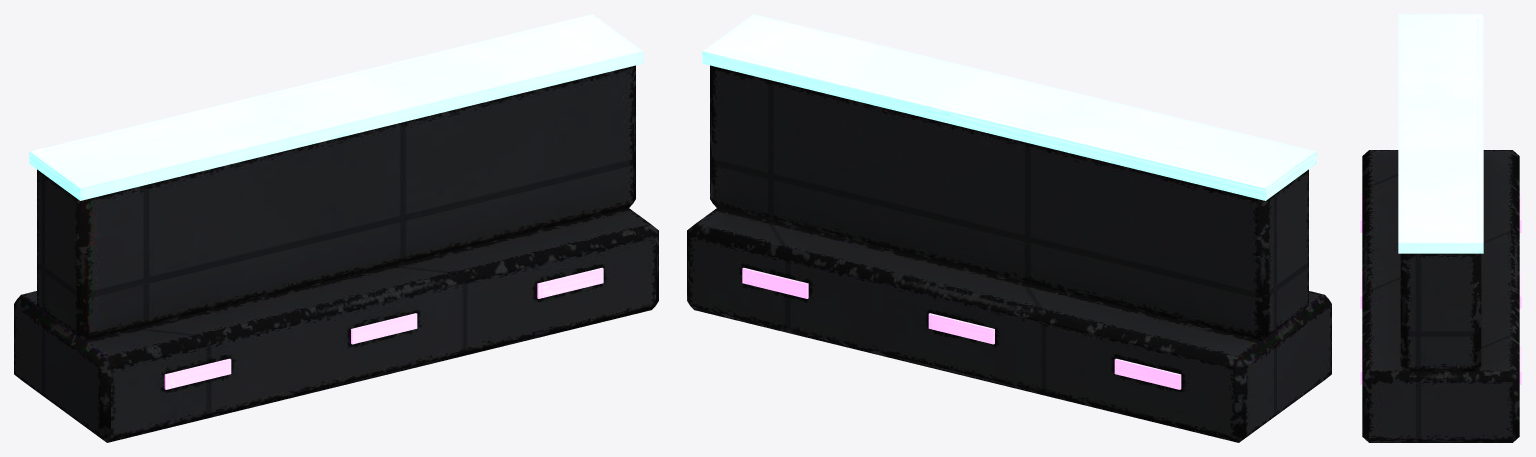
File: barreira_neon.glb
3 views of the same model, side by side, from view 1: azimuth 30°, elevation 25°; view 2: azimuth 150°, elevation 25°; view 3: azimuth 270°, elevation 25° (orthographic). The views are drawn at different scales.
Parts seen in each view (by area): view 1: barreira_neon; view 2: barreira_neon; view 3: barreira_neon.
Part boxes in pixels (left/top/right/bottom): barreira_neon: left=14, top=14, right=658, bottom=442; barreira_neon: left=687, top=14, right=1331, bottom=442; barreira_neon: left=1360, top=14, right=1521, bottom=442.
Size of the model in its own units: 2.42 by 1 by 0.72.
1 material, 1 textured.
